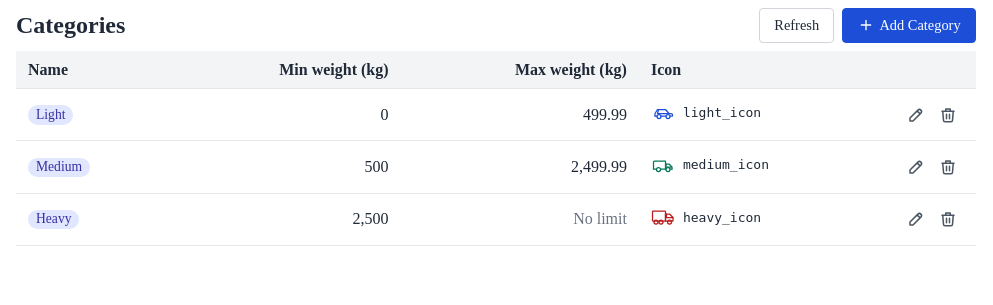
Test case: CategoryListComponent › keeps the row and shows the API message when delete fails
This screenshot has width=993, height=305.
Click the button named "Delete category Medium": click(948, 167) [932,151,964,183]
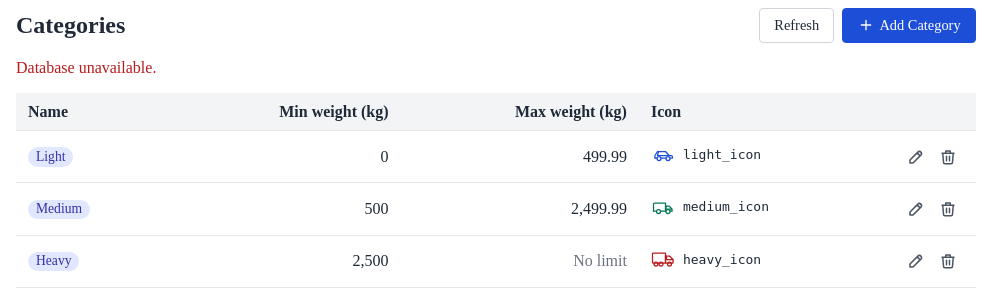
Check: the message "Database unavailable." is shown, box [16,59,156,76]
